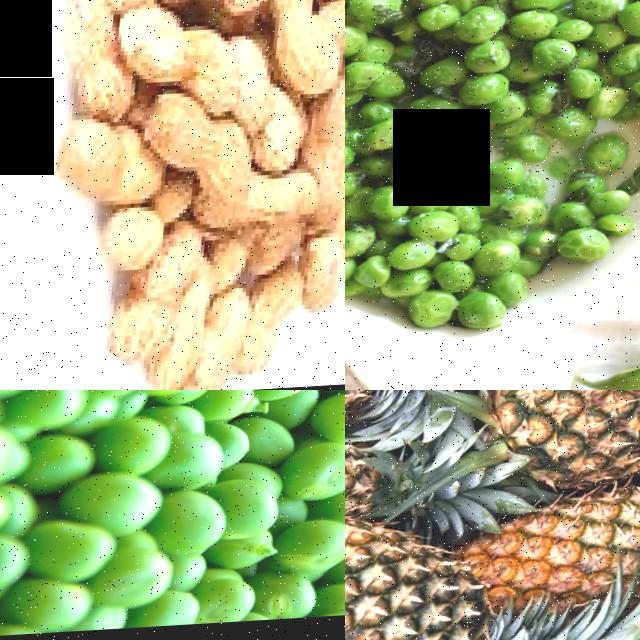peanuts: (122, 2, 245, 103), (149, 103, 258, 190), (114, 263, 196, 371), (271, 0, 345, 100), (62, 120, 154, 200), (209, 176, 327, 235), (63, 0, 127, 101)
peas: (0, 390, 345, 640), (345, 139, 535, 319), (345, 23, 636, 140)
pineapple: (345, 509, 528, 640), (484, 482, 640, 611), (500, 390, 640, 490), (345, 422, 411, 535)
